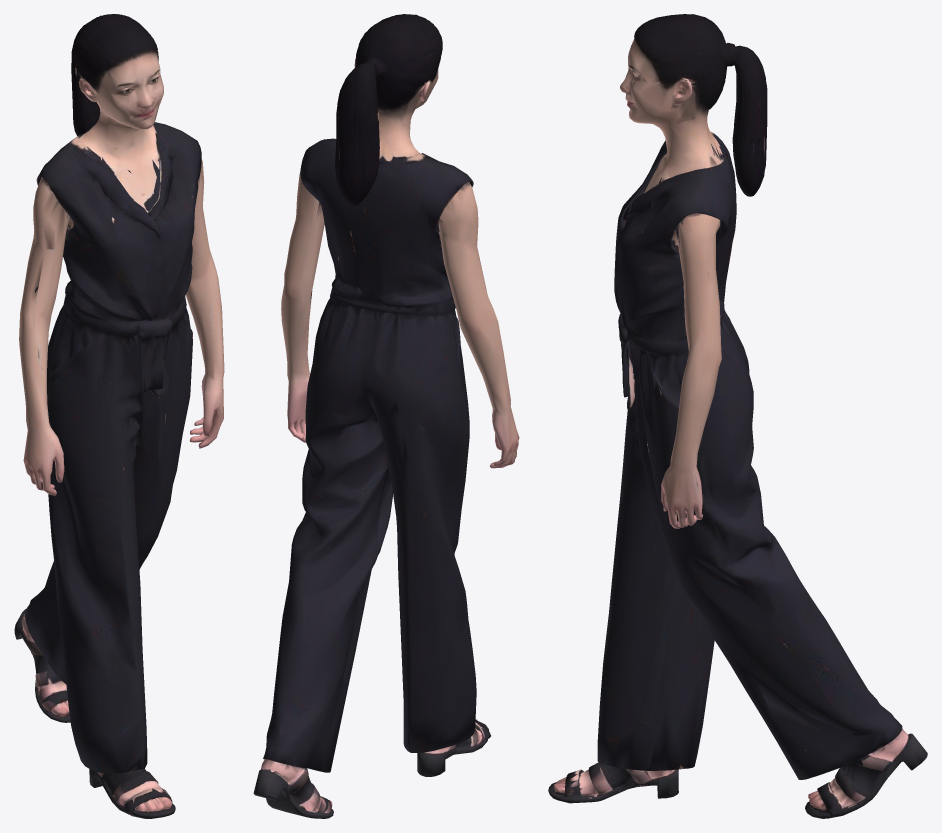
The model's file is extra-woman-4-near.glb.
The picture shows the model from 3 angles, left to right: view 1: azimuth 30°, elevation 25°; view 2: azimuth 150°, elevation 25°; view 3: azimuth 270°, elevation 25°; orthographic projection. The views are drawn at different scales.
Visible parts, largest first — view 1: Mesh_0; view 2: Mesh_0; view 3: Mesh_0.
Boxes of the visible parts, left/top/right/bottom form: Mesh_0: left=14, top=14, right=224, bottom=818; Mesh_0: left=253, top=14, right=519, bottom=818; Mesh_0: left=548, top=14, right=927, bottom=818.
Bounding box in the file's own units: 0.5597 × 1.9 × 0.8301.
Materials: 1 (1 with a texture image).
